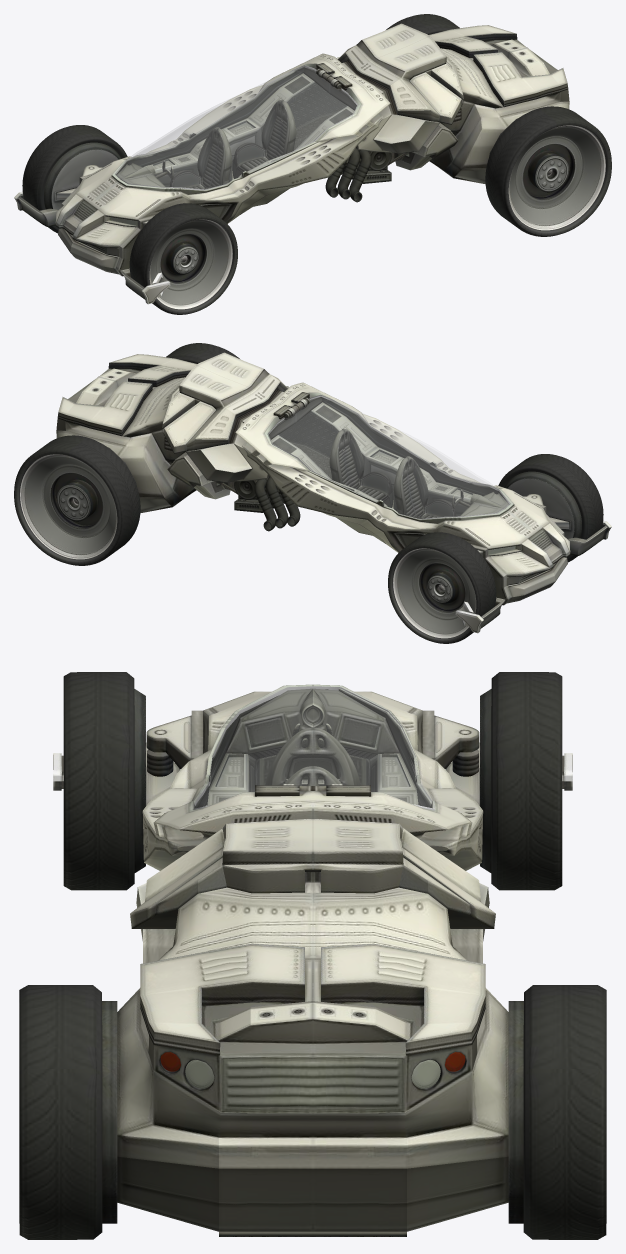
3 renders of one model, top to bottom at view 1: azimuth 30°, elevation 25°; view 2: azimuth 150°, elevation 25°; view 3: azimuth 270°, elevation 25°, orthographic. The views are drawn at different scales.
Parts seen in each view (by area): view 1: Speed_car.007, Speed_car.000, Cube.045, Cube.044; view 2: Speed_car.007, Speed_car.000, Cube.045, Cube.044; view 3: Speed_car.007, Cube.044, Speed_car.000, Cube.045.
Boxes of the visible parts, <box> form: Speed_car.007: <box>55,23,569,276</box>; Speed_car.000: <box>14,125,237,314</box>; Cube.045: <box>115,65,357,190</box>; Cube.044: <box>386,14,611,236</box>; Speed_car.007: <box>56,352,570,605</box>; Speed_car.000: <box>388,454,611,643</box>; Cube.045: <box>267,395,510,519</box>; Cube.044: <box>14,343,239,565</box>; Speed_car.007: <box>102,684,523,1236</box>; Cube.044: <box>19,985,606,1239</box>; Speed_car.000: <box>53,672,572,890</box>; Cube.045: <box>193,686,434,810</box>.
Bounding box in the file's own units: 6.4 × 2.03 × 3.35.
3 materials, 1 textured.
